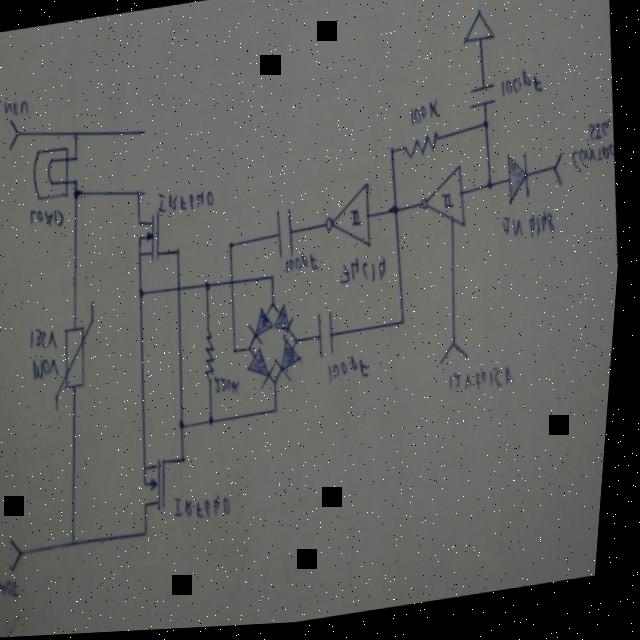capacitor: (272, 211, 304, 264), (316, 312, 345, 364), (466, 87, 500, 119)
crossover: (230, 278, 240, 293), (178, 285, 187, 299)
diode: (503, 155, 537, 212), (249, 350, 282, 395), (277, 344, 308, 387), (250, 310, 280, 349), (276, 307, 300, 343)
ground: (460, 12, 498, 52)
junction: (390, 207, 404, 225), (401, 319, 413, 335), (482, 123, 494, 138), (486, 184, 498, 199), (73, 190, 85, 204), (207, 281, 217, 297), (141, 288, 151, 304), (211, 418, 223, 431), (390, 148, 399, 164), (76, 538, 86, 552), (176, 248, 186, 261), (271, 276, 281, 288), (148, 531, 158, 543), (137, 189, 146, 202), (74, 154, 82, 168), (274, 381, 284, 392), (184, 457, 194, 468), (183, 423, 192, 435), (230, 242, 238, 255), (73, 130, 81, 143), (273, 303, 282, 314), (234, 347, 242, 359), (277, 408, 285, 420), (296, 338, 305, 348), (74, 178, 82, 189), (142, 130, 150, 140), (252, 349, 258, 358)
resistor: (402, 135, 445, 166), (204, 328, 224, 388)
terminal: (442, 346, 475, 372), (13, 537, 33, 575), (552, 157, 570, 194), (7, 117, 24, 153)
text: (177, 491, 242, 529), (451, 368, 521, 402), (503, 213, 560, 249), (340, 256, 393, 292), (158, 189, 218, 218), (571, 148, 619, 182), (499, 72, 546, 106), (330, 356, 375, 390), (409, 100, 444, 136), (30, 206, 70, 234), (287, 253, 324, 280), (32, 326, 64, 353), (35, 357, 65, 382), (2, 578, 30, 603), (587, 125, 614, 150), (219, 377, 247, 401), (3, 97, 31, 120)
transistor: (144, 459, 178, 516), (136, 214, 168, 268)
